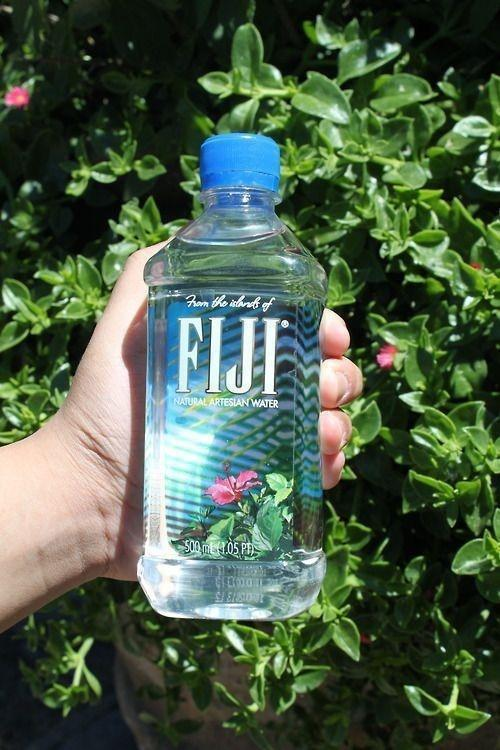bottle-plastic: (136, 130, 330, 625)
